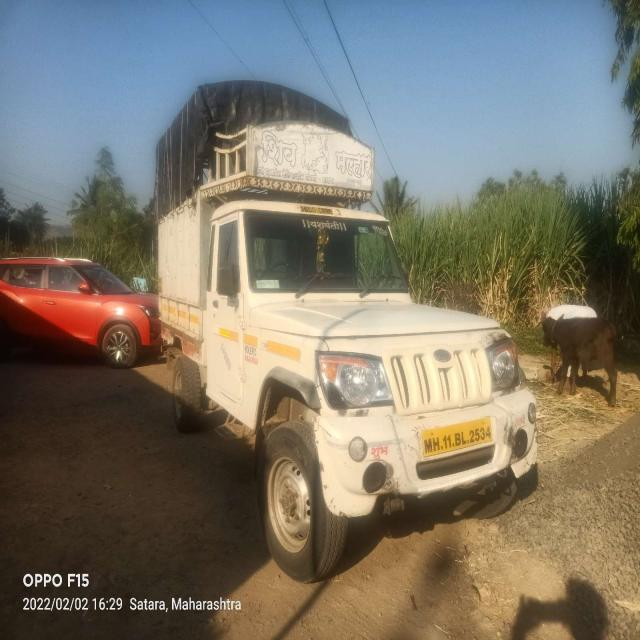light_vehicle: (158, 95, 532, 508)
